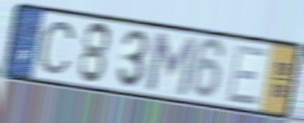3: (114, 29, 151, 90)
6: (188, 36, 229, 103)
8: (75, 20, 113, 86)
C: (37, 19, 78, 76)
E: (224, 43, 269, 109)
M: (145, 29, 199, 99)
